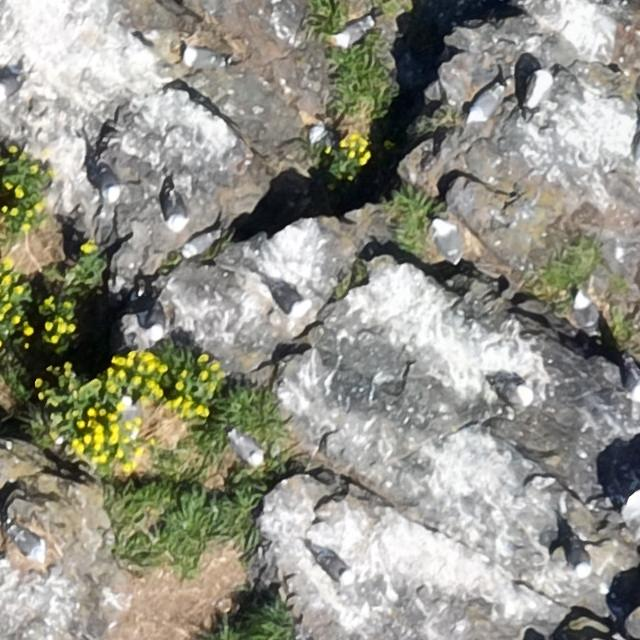umineko: (9, 518, 51, 568), (463, 82, 508, 122), (574, 292, 605, 346), (491, 381, 540, 409), (524, 70, 555, 111), (434, 219, 461, 266), (145, 301, 171, 341), (98, 162, 120, 208), (233, 434, 260, 464), (320, 553, 350, 580), (270, 287, 304, 310), (336, 19, 368, 43), (183, 232, 215, 254), (185, 50, 221, 68), (166, 192, 184, 227), (573, 546, 590, 574), (1, 78, 22, 99)
